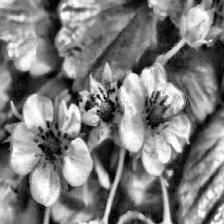Blossom Blight: (30, 118, 73, 174), (140, 90, 174, 140), (89, 86, 122, 130)
